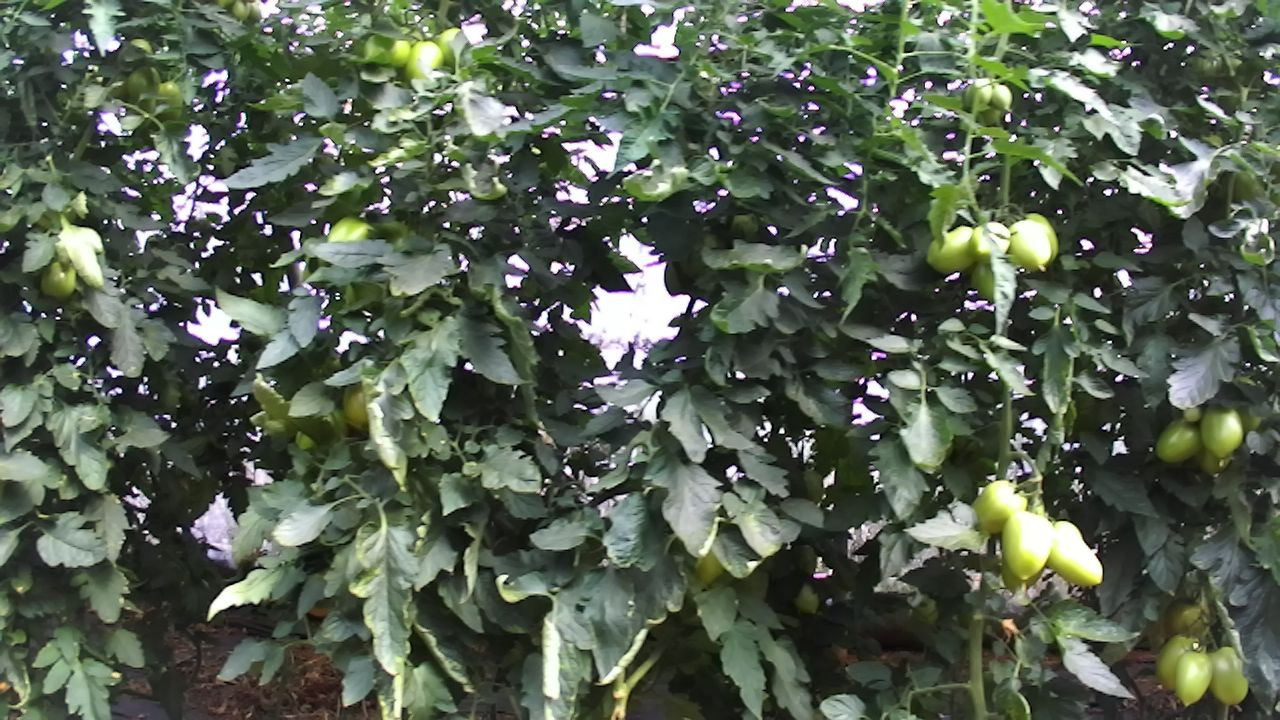tomato: (1043, 517, 1107, 590), (998, 509, 1055, 582), (969, 477, 1029, 535), (1152, 629, 1203, 695), (1206, 644, 1251, 707), (924, 223, 976, 276), (1199, 402, 1245, 460), (1172, 648, 1215, 709), (1152, 416, 1205, 465), (1006, 217, 1053, 272), (401, 36, 448, 87), (37, 258, 78, 301)
